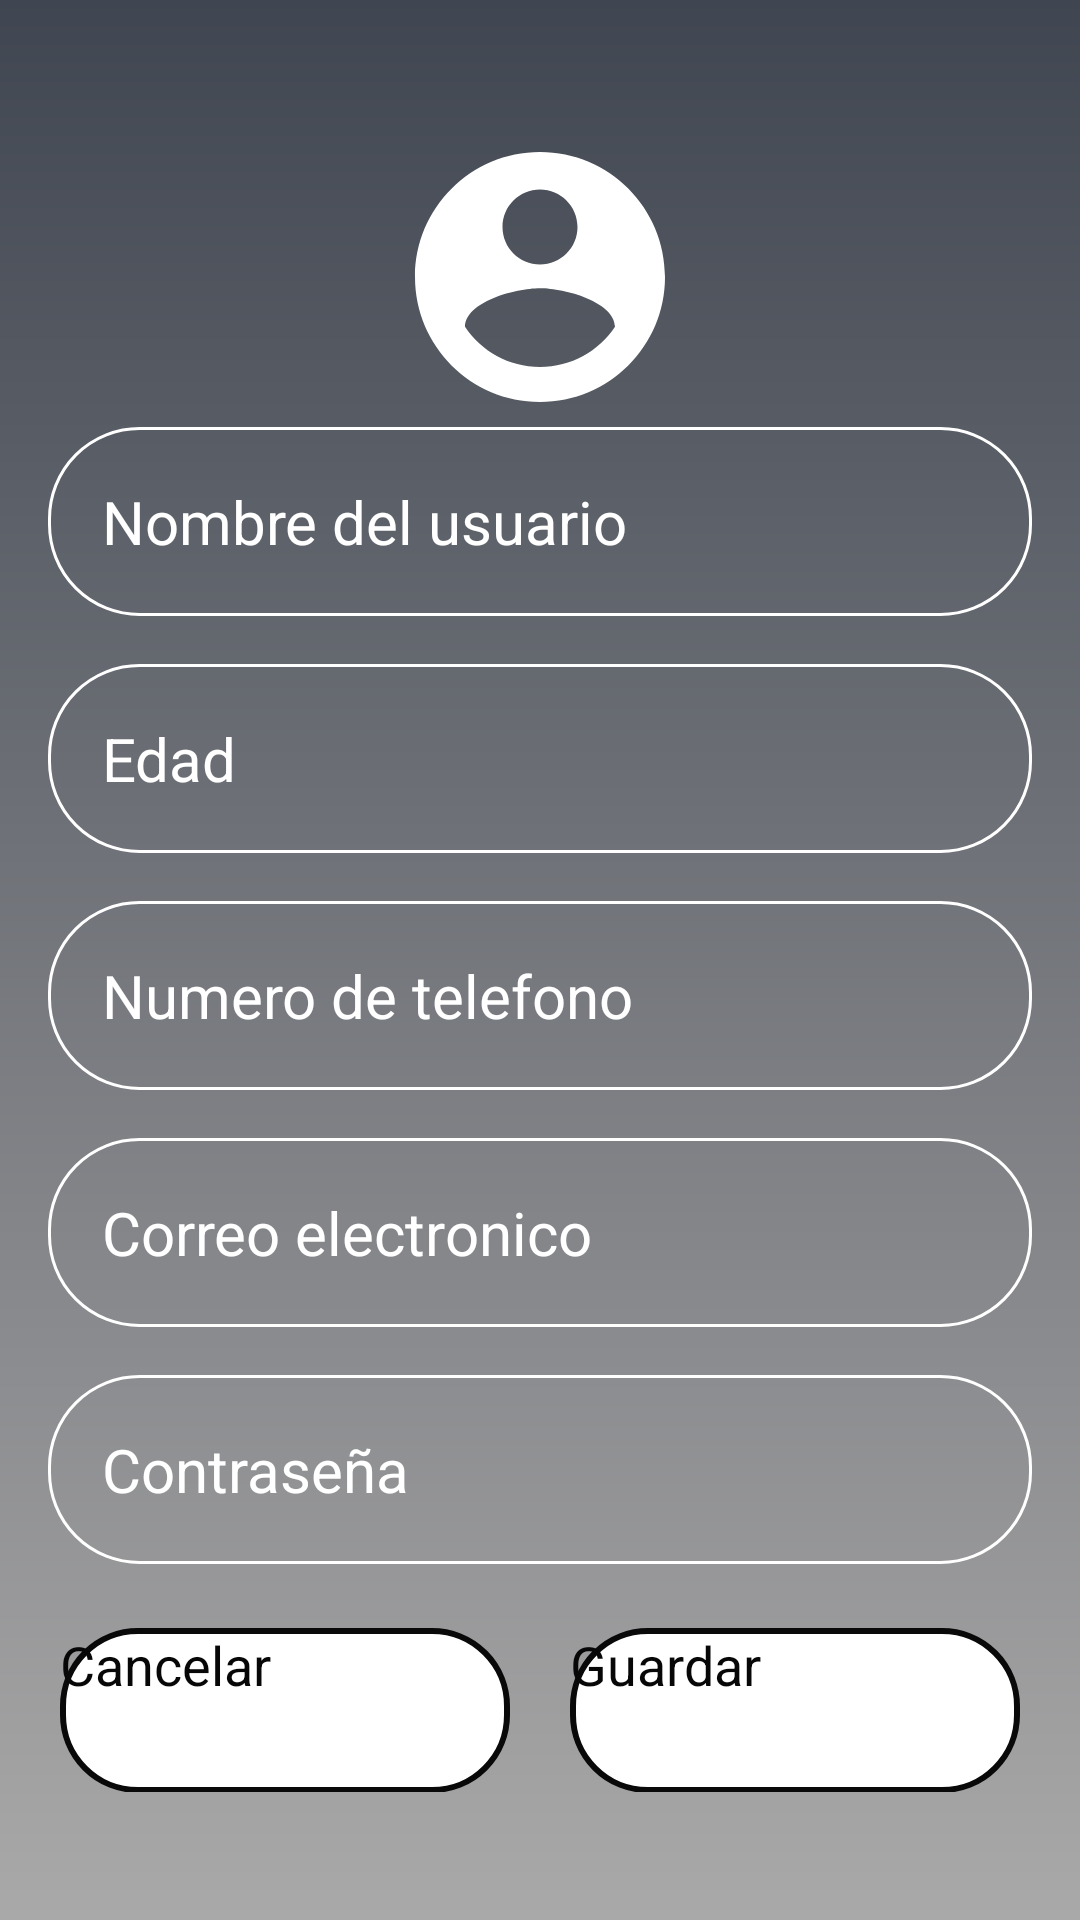

Where icons sit on this 1080*1920 app screen, as (x1, y1, x2, y2):
account circle: (415, 152, 665, 402)
